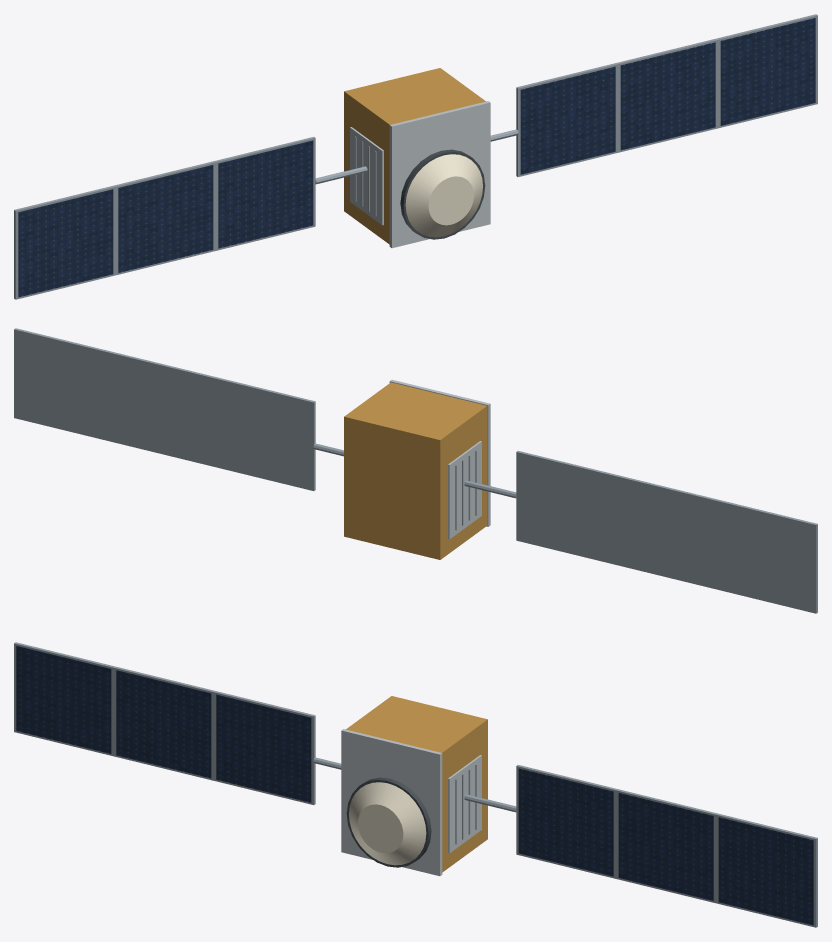
File: gps-iif.glb
3 renders of one model, top to bottom at view 1: azimuth 30°, elevation 25°; view 2: azimuth 150°, elevation 25°; view 3: azimuth 330°, elevation 25°, orthographic.
Parts seen in each view (by area): view 1: Photovoltaic laminates (×6), Array frame (×6), Equipment bus, Payload deck, Navigation antenna cover, Radiator, Navigation antenna base; view 2: Array frame (×6), Equipment bus, Radiator, Payload deck; view 3: Photovoltaic laminates (×6), Array frame (×6), Equipment bus, Payload deck, Navigation antenna cover, Radiator, Navigation antenna base.
Part boxes in pixels (x1,y1,x2,y2): Photovoltaic laminates (×6): (18, 18, 815, 297); Array frame (×6): (14, 14, 817, 299); Equipment bus: (344, 68, 485, 244); Payload deck: (389, 101, 490, 248); Navigation antenna cover: (405, 154, 482, 237); Radiator: (350, 127, 383, 225); Navigation antenna base: (400, 149, 485, 239); Array frame (×6): (14, 328, 817, 613); Equipment bus: (344, 382, 487, 559); Radiator: (448, 441, 481, 539); Payload deck: (389, 379, 490, 526); Photovoltaic laminates (×6): (16, 646, 813, 925); Array frame (×6): (14, 642, 817, 927); Equipment bus: (346, 696, 487, 872); Payload deck: (341, 729, 442, 876); Navigation antenna cover: (349, 782, 426, 865); Radiator: (448, 755, 481, 853); Navigation antenna base: (346, 777, 431, 867).
Bounding box in the file's own units: 17.5 × 2.54 × 2.24.
6 materials, 1 textured.
